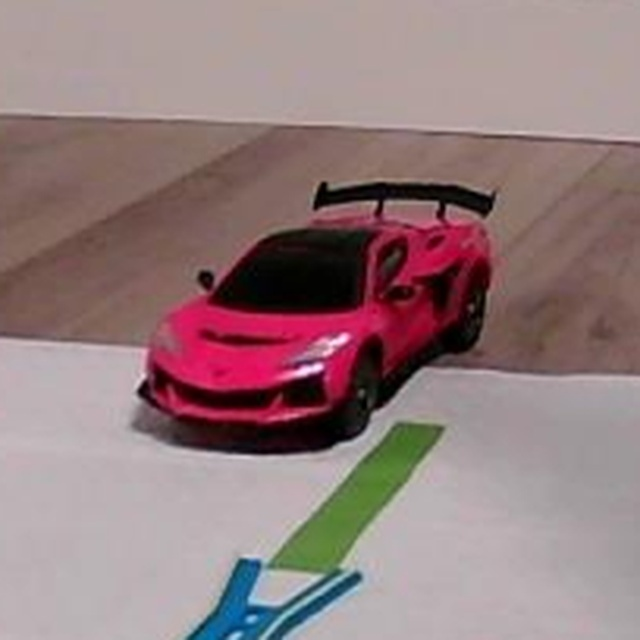tire_front_driver: (350, 350, 392, 440)
tire_rear_driver: (448, 298, 490, 358)
